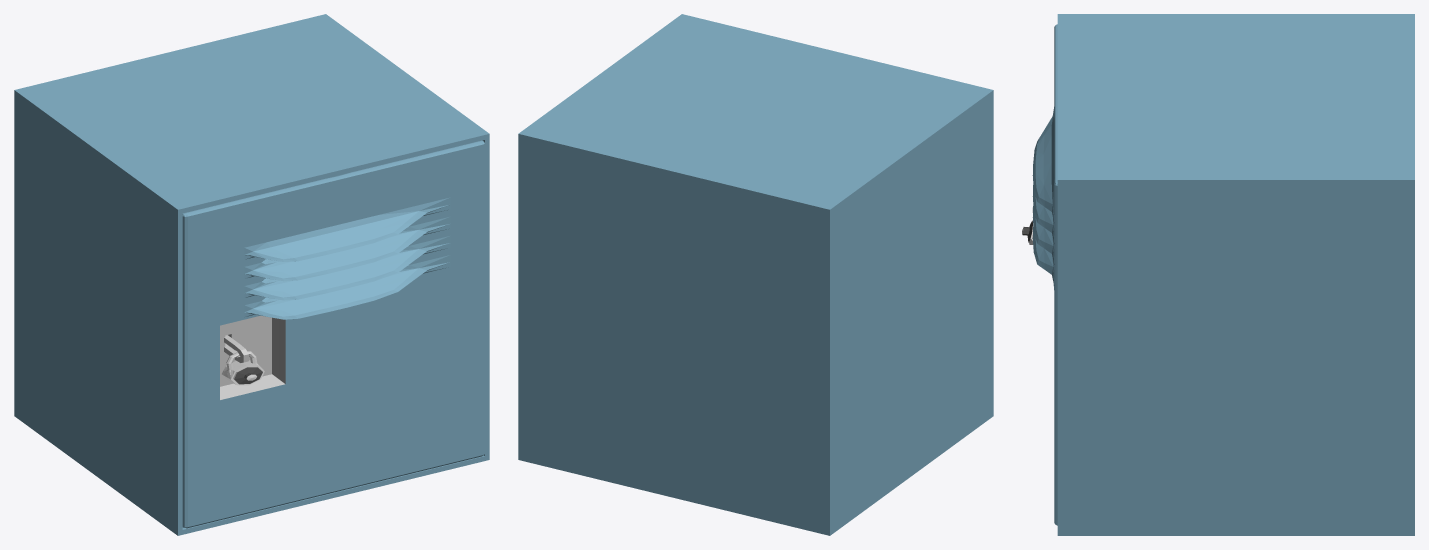
File: sh-bs0-locked-locker.glb
3 views of the same model, side by side, from view 1: azimuth 30°, elevation 25°; view 2: azimuth 150°, elevation 25°; view 3: azimuth 270°, elevation 25° (orthographic). The views are drawn at different scales.
Visible parts, largest first — view 1: Cube; view 2: Cube; view 3: Cube.
Part boxes in pixels (x1=…): Cube: x1=14, y1=14, x2=489, y2=535; Cube: x1=518, y1=14, x2=993, y2=535; Cube: x1=1022, y1=14, x2=1414, y2=535.
Bounding box in the file's own units: 1 × 1 × 1.
